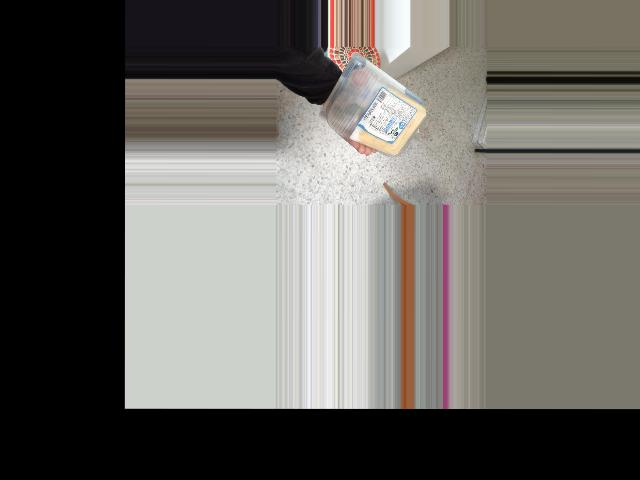cheese: (335, 94, 428, 146)
